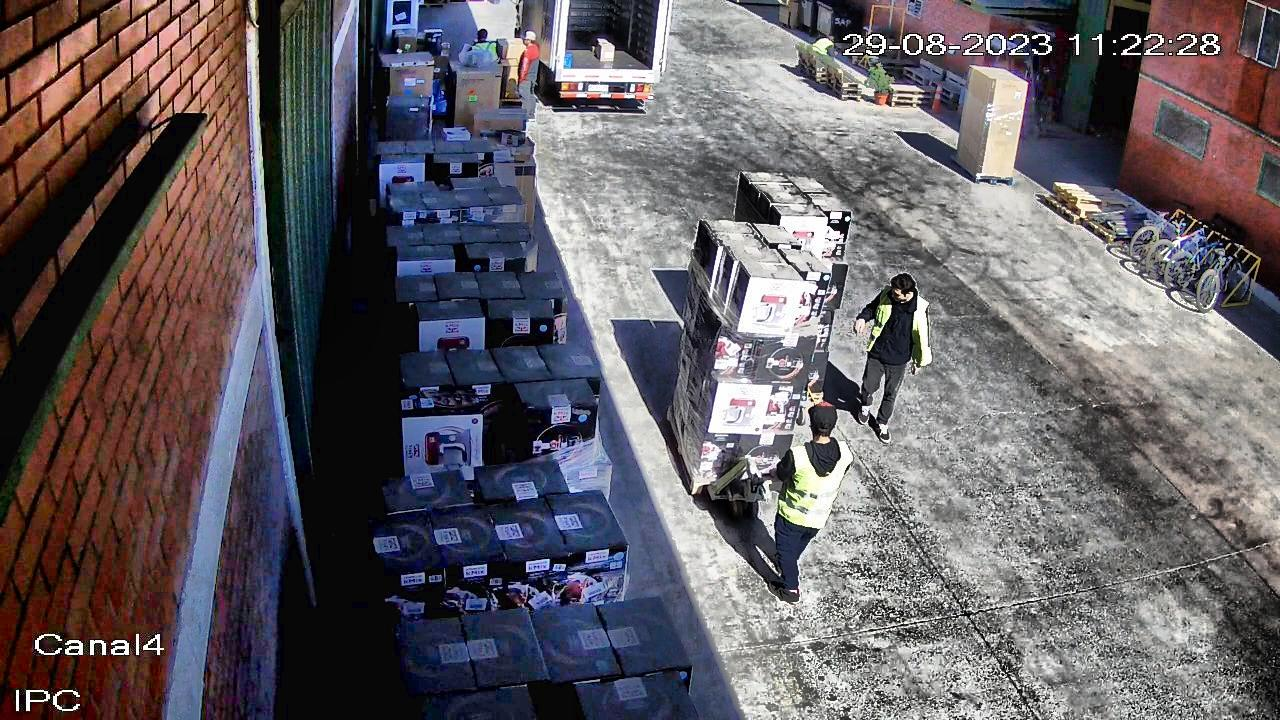con-casco: (517, 30, 539, 45)
con-chaleco: (766, 440, 856, 533), (862, 284, 935, 368), (463, 40, 505, 74), (809, 36, 837, 60)
persona: (763, 397, 856, 612), (839, 262, 940, 448), (460, 26, 505, 114), (509, 24, 543, 128), (805, 32, 839, 86)
sin-casco: (802, 401, 840, 443), (883, 269, 922, 303), (473, 28, 492, 45), (827, 34, 836, 43)
sin-chaleco: (515, 44, 541, 85)
